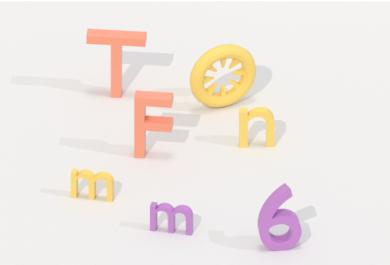0-TronLo: (184, 40, 259, 110)
6: (252, 179, 305, 256)
F: (130, 84, 175, 163)
T: (82, 21, 150, 96)
m: (66, 160, 117, 207), (145, 196, 198, 239)
n: (236, 103, 280, 152)
